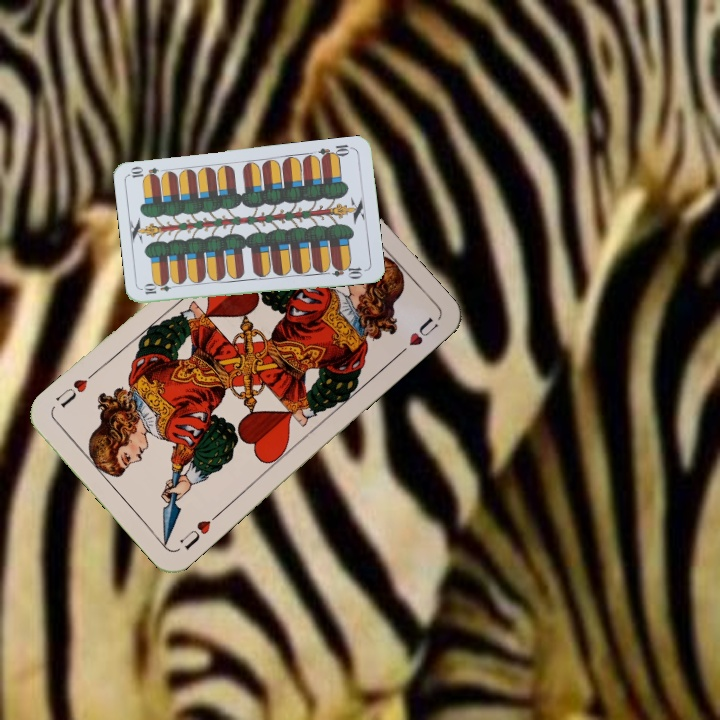E10: (315, 140, 355, 162), (140, 280, 181, 297)
HU: (176, 509, 222, 553)
